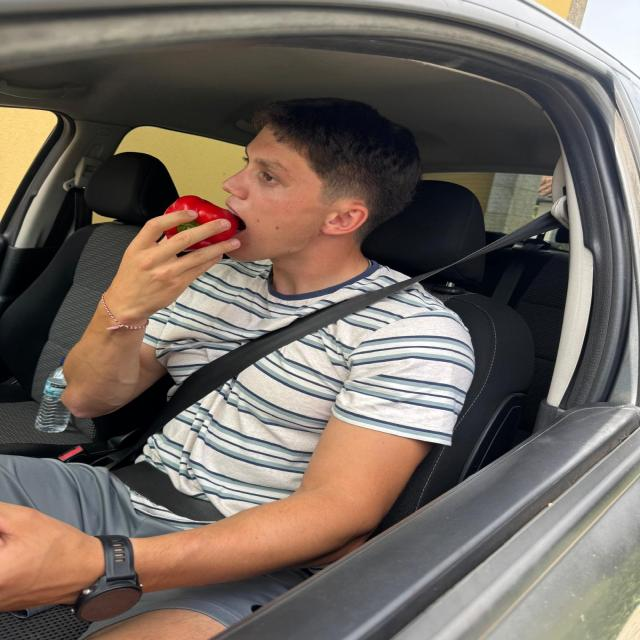Eating: (153, 179, 245, 264)
Seatbelt: (105, 261, 472, 526)
